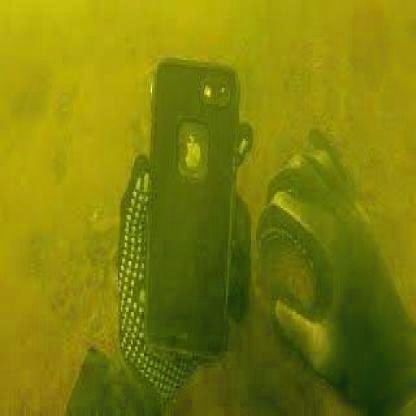cellphone: (144, 55, 243, 370)
